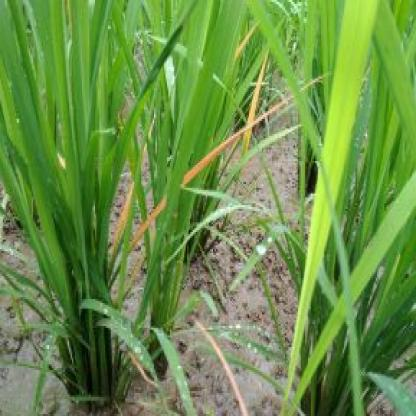Tungro: (236, 54, 275, 194)
